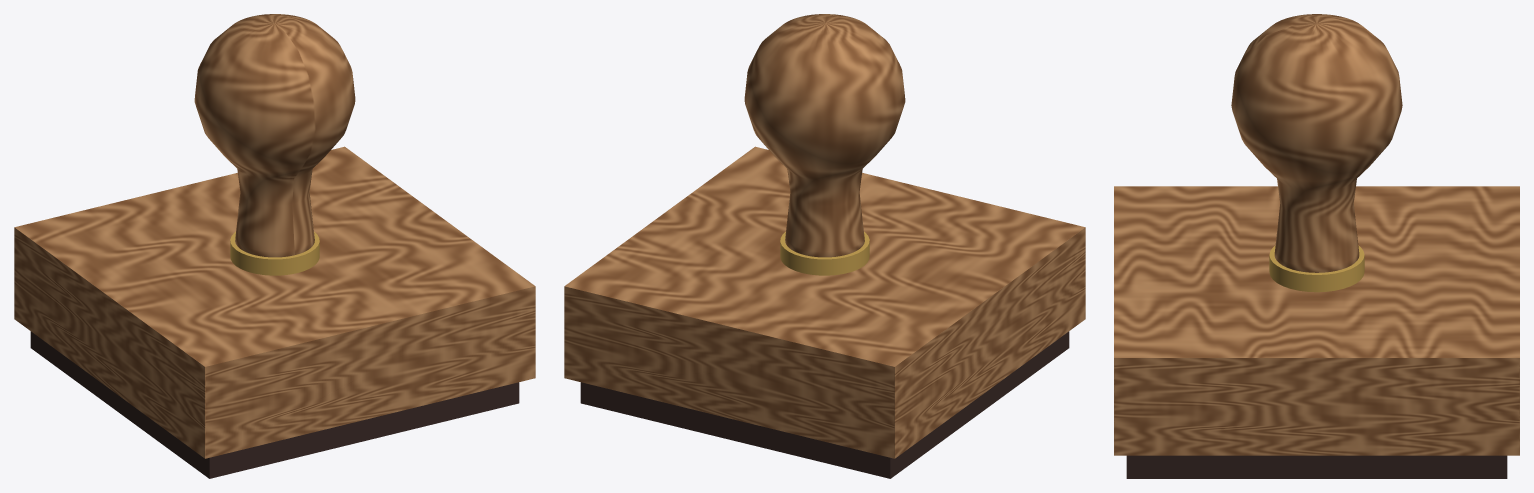
Rendered from rubber-stamp.glb.
The picture shows the model from 3 angles, left to right: view 1: azimuth 30°, elevation 25°; view 2: azimuth 150°, elevation 25°; view 3: azimuth 270°, elevation 25°; orthographic projection. The views are drawn at different scales.
Parts seen in each view (by area): view 1: Block, Handle, Pad, Ferrule; view 2: Block, Handle, Pad, Ferrule; view 3: Block, Handle, Pad, Ferrule.
Part boxes in pixels (left/top/right/bottom): Block: left=14, top=146, right=535, bottom=458; Handle: left=194, top=14, right=355, bottom=257; Pad: left=30, top=331, right=519, bottom=478; Ferrule: left=230, top=231, right=319, bottom=275; Block: left=564, top=146, right=1085, bottom=458; Handle: left=744, top=14, right=905, bottom=257; Pad: left=580, top=331, right=1069, bottom=478; Ferrule: left=780, top=231, right=869, bottom=275; Block: left=1114, top=186, right=1519, bottom=455; Handle: left=1231, top=14, right=1402, bottom=272; Pad: left=1126, top=455, right=1507, bottom=478; Ferrule: left=1269, top=245, right=1364, bottom=292.
Size of the model in its own units: 0.64 by 0.652 by 0.64.
3 materials, 1 textured.
